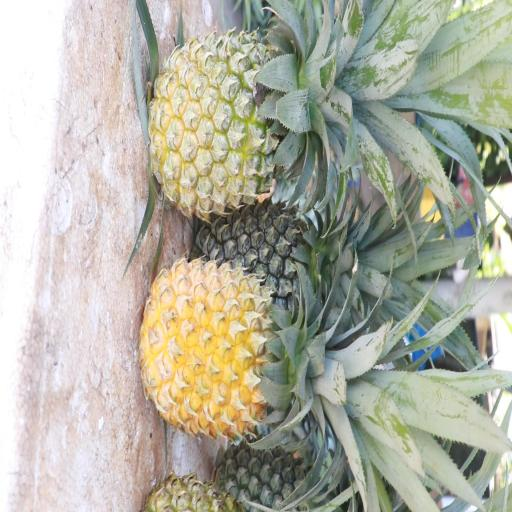------------------------------: (154, 34, 323, 209)
Pineapple - v8 v1: (145, 264, 317, 440)
